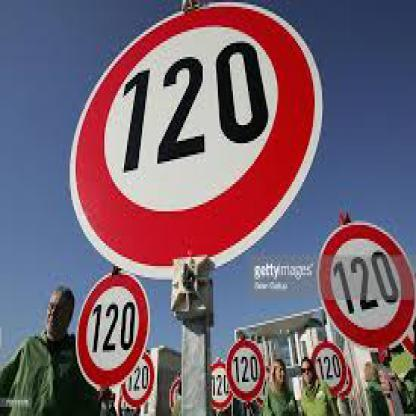Speed Limit 120: (75, 5, 313, 253), (321, 226, 414, 345), (78, 273, 144, 383), (226, 342, 262, 401), (309, 342, 344, 389)
